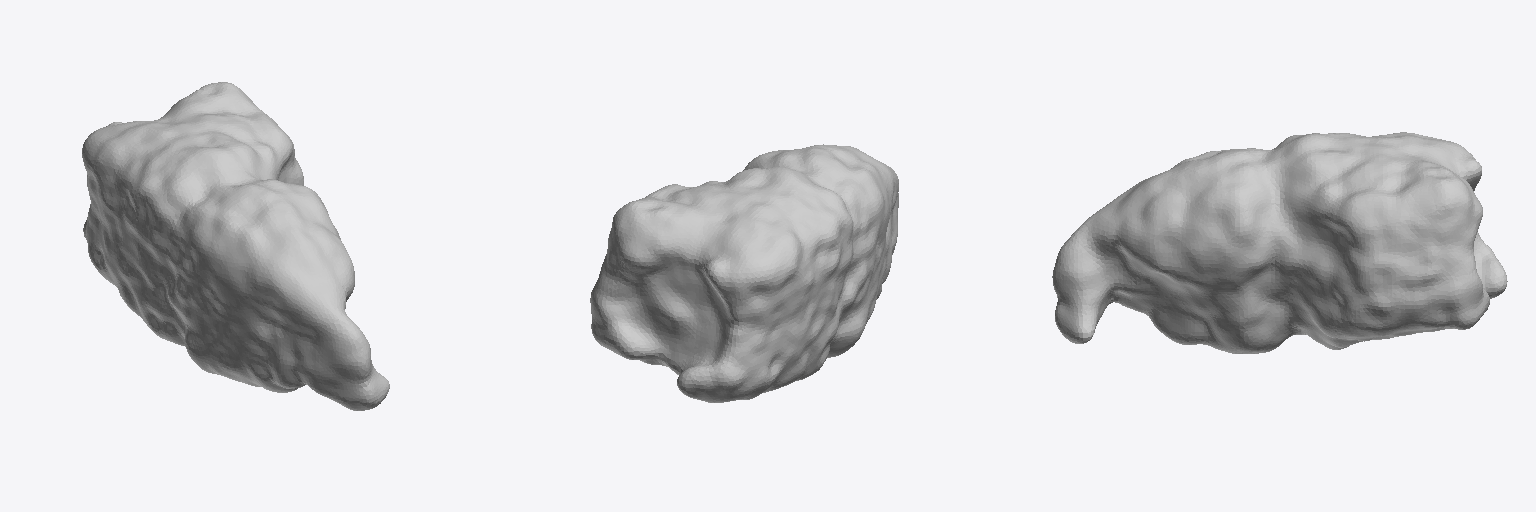
Rendered from initial_uv.obj.
The picture shows the model from 3 angles: view 1: azimuth 30°, elevation 25°; view 2: azimuth 150°, elevation 25°; view 3: azimuth 270°, elevation 25°; orthographic projection.
Visible parts, largest first — view 1: mesh_01_cylinder_seams_uv; view 2: mesh_01_cylinder_seams_uv; view 3: mesh_01_cylinder_seams_uv.
Part boxes in pixels (x1,y1,x2,y2): mesh_01_cylinder_seams_uv: (82, 82, 389, 410); mesh_01_cylinder_seams_uv: (590, 144, 898, 402); mesh_01_cylinder_seams_uv: (1052, 132, 1507, 353).
Size of the model in its own units: 455 by 465 by 928.